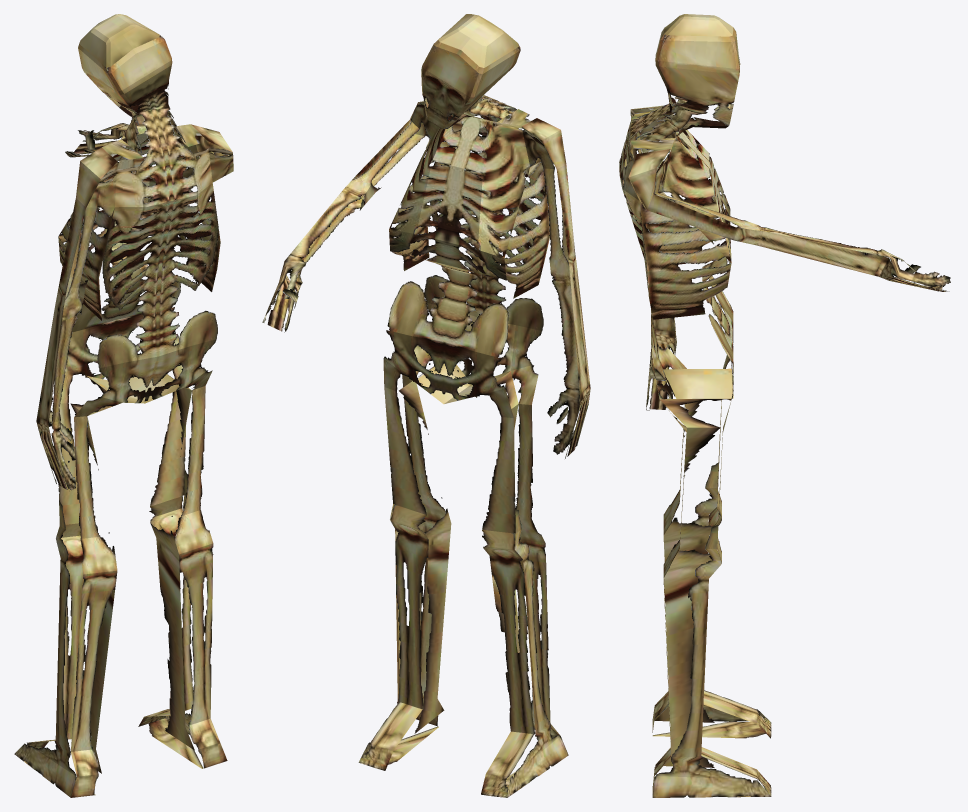
File: skeleton_Standing.fbx
3 renders of one model, left to right at view 1: azimuth 30°, elevation 25°; view 2: azimuth 150°, elevation 25°; view 3: azimuth 270°, elevation 25°, orthographic.
Parts seen in each view (by area): view 1: skeleton.001; view 2: skeleton.001; view 3: skeleton.001.
Part boxes in pixels (x1,y1,x2,y2): skeleton.001: (14,14,233,797); skeleton.001: (262,14,590,797); skeleton.001: (619,14,950,797).
Size of the model in its own units: 134 by 483 by 197.
